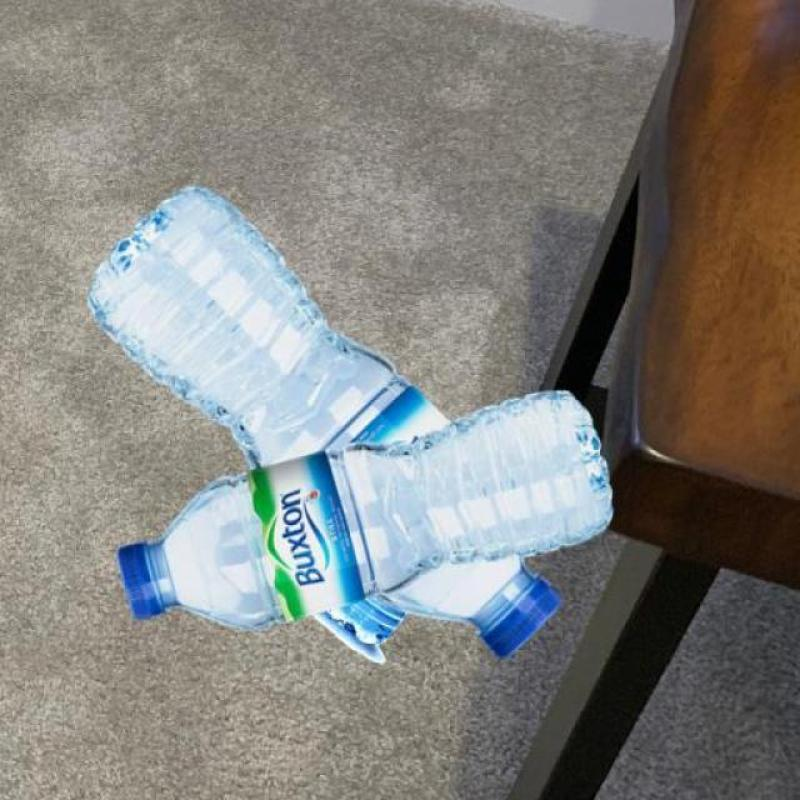botella: (83, 182, 562, 658), (116, 389, 616, 630), (322, 591, 403, 649)
